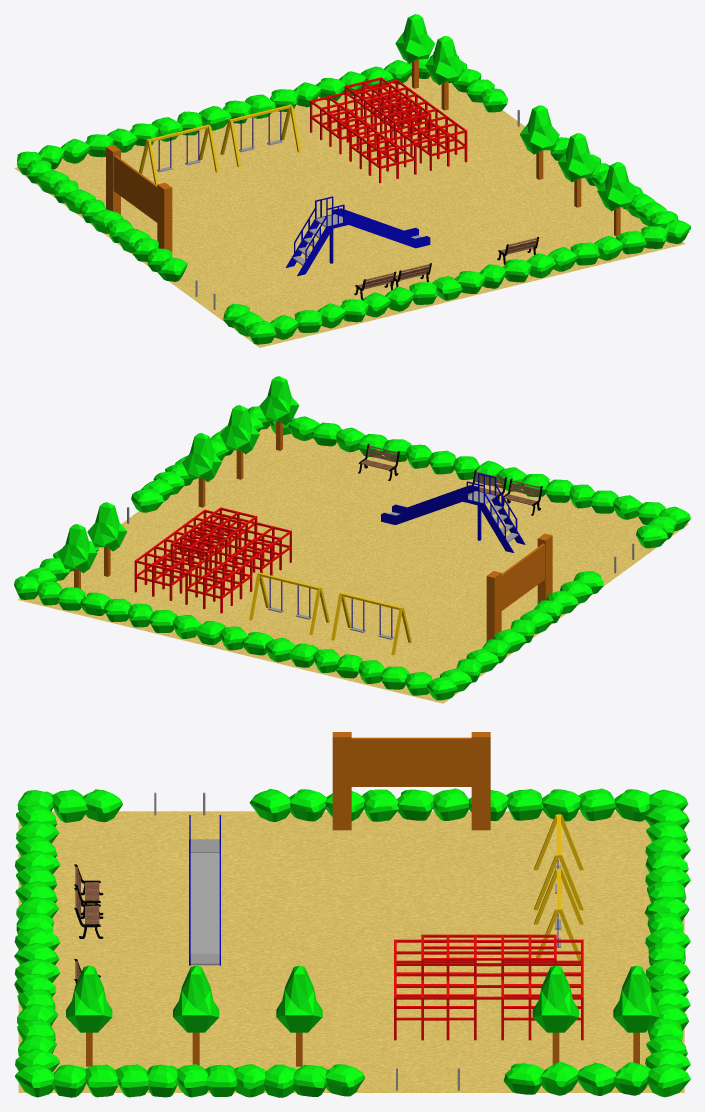
The model's file is kikyou_2map.FBX.
The picture shows the model from 3 angles, top to bottom: view 1: azimuth 30°, elevation 25°; view 2: azimuth 150°, elevation 25°; view 3: azimuth 270°, elevation 25°; orthographic projection. The views are drawn at different scales.
Visible parts, largest first — view 1: Plane001, Box022, Hedra003, Hedra002, Hedra001, Hedra006, Hedra005, jyanguru006, jyanguru010, Box020, jyanguru007, jyanguru005 (+22 smaller); view 2: Plane001, Box022, Hedra002, Hedra006, Hedra005, Hedra003, Hedra001, jyanguru007, jyanguru011, jyanguru006, jyanguru008, Box021 (+38 smaller); view 3: Plane001, Box022, suberu, Hedra002, Hedra003, Hedra001, Hedra006, Hedra005, Box020, Box021, jyanguru010, jyanguru005 (+65 smaller).
Boxes of the visible parts, x1,y1,x2,y2 form: Plane001: (14,76,684,347); Box022: (113,155,157,222); Hedra003: (520,105,559,154); Hedra002: (425,36,464,85); Hedra001: (395,14,435,63); Hedra006: (597,162,637,211); Hedra005: (558,133,597,182); jyanguru006: (349,121,416,167); jyanguru010: (364,91,431,138); Box020: (157,182,172,253); jyanguru007: (310,92,376,138); jyanguru005: (400,108,467,154); Plane001: (18,425,688,703); Box022: (501,543,544,610); Hedra002: (87,502,127,551); Hedra006: (259,376,299,425); Hedra005: (220,405,259,454); Hedra003: (182,433,221,481); Hedra001: (57,524,97,573); jyanguru007: (185,551,252,597); jyanguru011: (170,522,237,568); jyanguru006: (225,522,291,569); jyanguru008: (134,538,201,585); Box021: (486,571,501,640); Plane001: (18,811,684,1092); Box022: (351,737,471,786); suberu: (190,853,219,965); Hedra002: (532,965,578,1032); Hedra003: (276,965,322,1032); Hedra001: (613,965,659,1032); Hedra006: (66,965,112,1032); Hedra005: (173,965,219,1032); Box020: (332,732,351,830); Box021: (471,732,490,830); jyanguru010: (421,934,503,980); jyanguru005: (394,973,476,1018).
Bounding box in the file's own units: 631 × 110 × 610.
